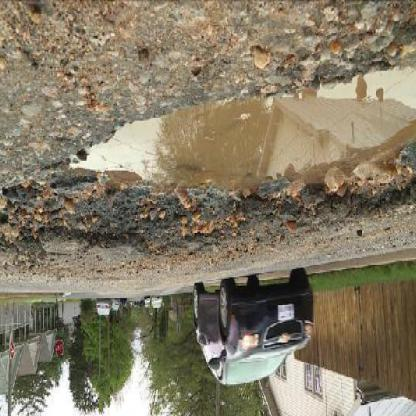pothole: (2, 62, 416, 269)
